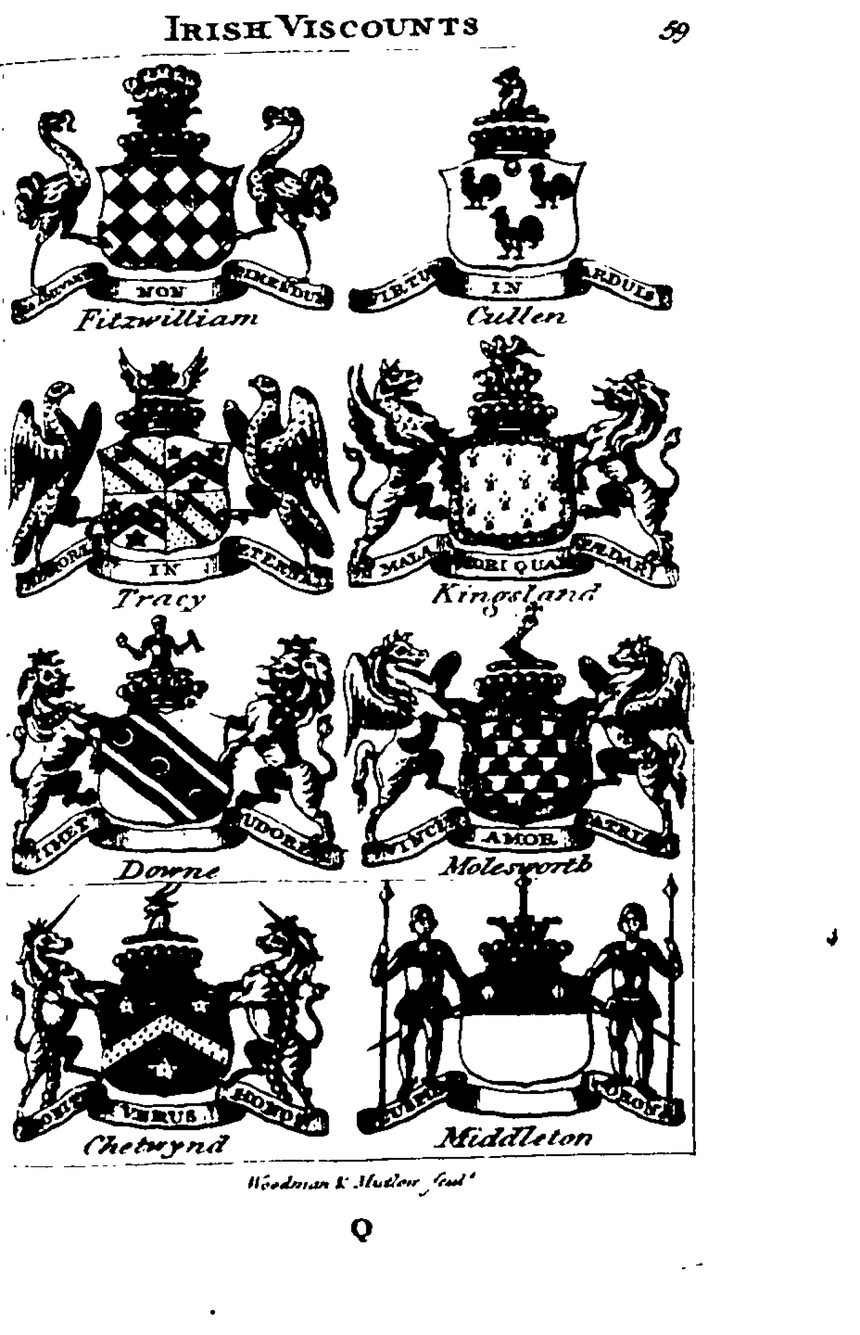coat_of_arms: (345, 54, 698, 342), (342, 336, 695, 620), (343, 880, 696, 1151), (5, 883, 340, 1157), (345, 621, 695, 883), (5, 342, 341, 614), (3, 66, 335, 341), (13, 615, 347, 886)
